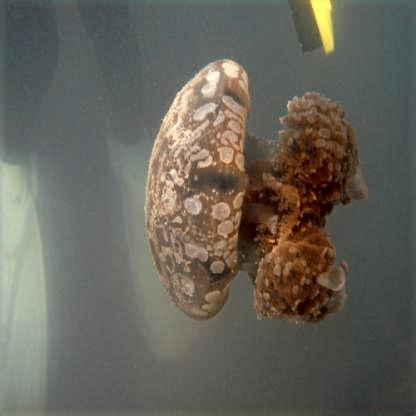Handstand: (147, 65, 365, 329)
